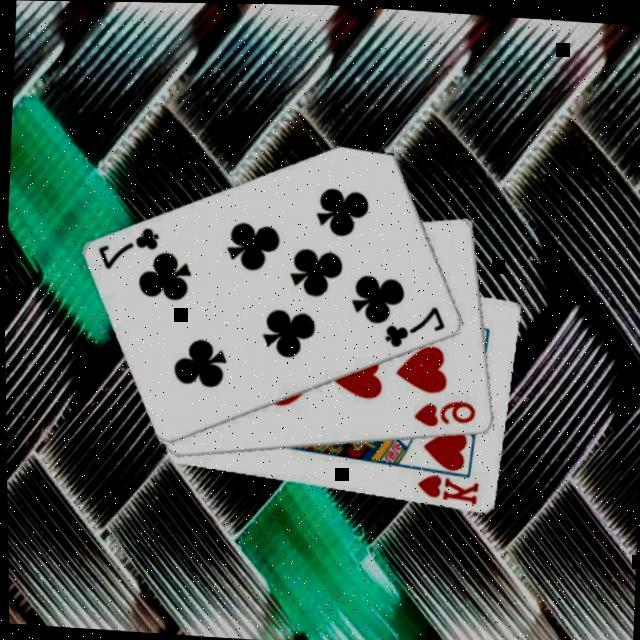7C: (381, 298, 451, 352), (95, 221, 165, 275)
9H: (411, 393, 481, 431)
KH: (414, 469, 482, 505)
